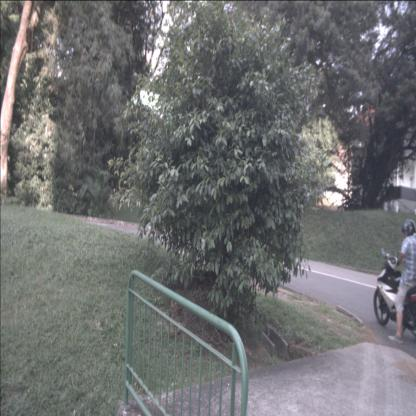vehicle-motorcycle: (373, 218, 416, 346)
